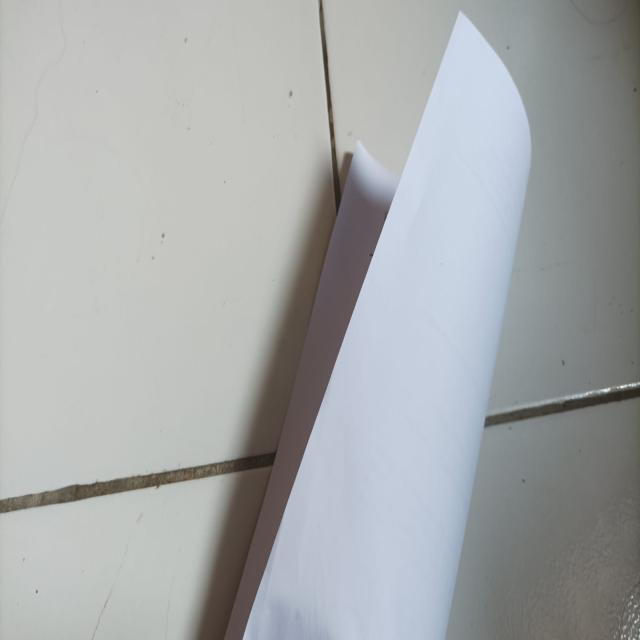Organik: (222, 12, 532, 639)
